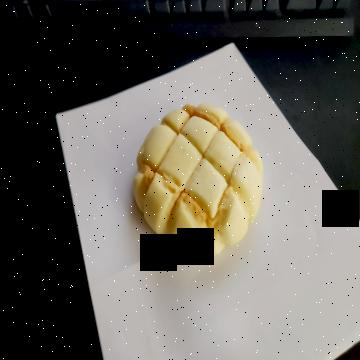melon_bread: (135, 103, 264, 254)
